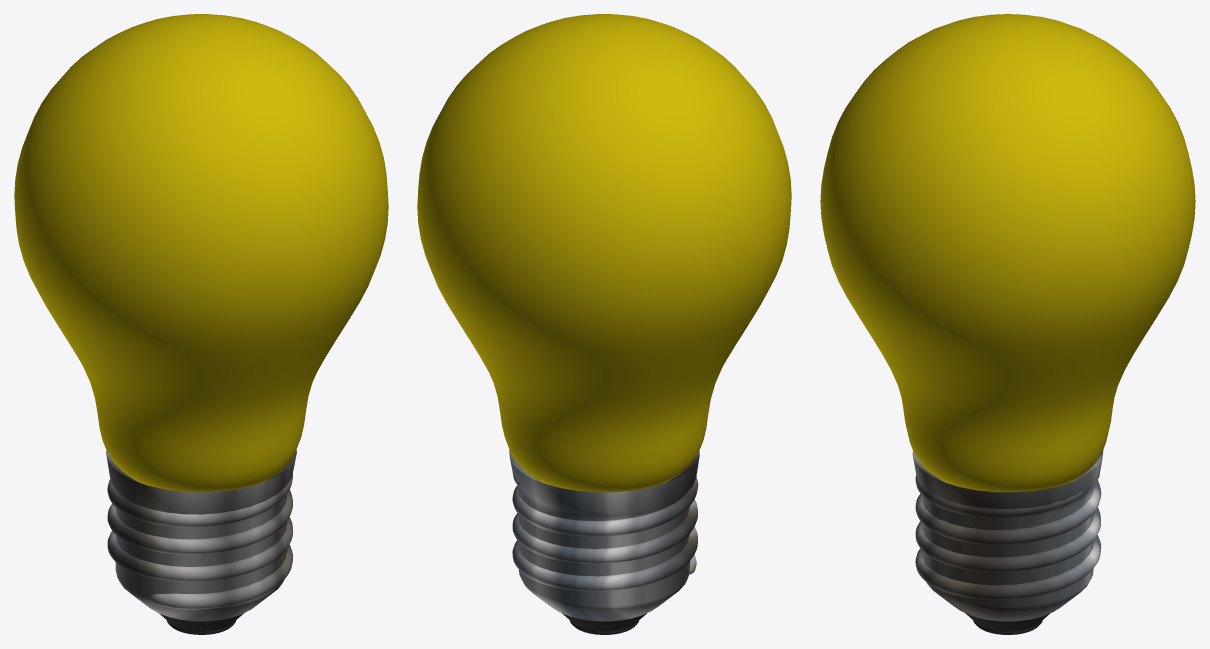
Rendered from Bulb_Verified.glb.
3 views of the same model, side by side, from view 1: azimuth 30°, elevation 25°; view 2: azimuth 150°, elevation 25°; view 3: azimuth 270°, elevation 25° (orthographic).
Visible parts, largest first — view 1: Bulb_Main, Bottum; view 2: Bulb_Main, Bottum; view 3: Bulb_Main, Bottum.
Part boxes in pixels (bbox=[...]): Bulb_Main: bbox=[14, 14, 388, 492]; Bottum: bbox=[106, 450, 296, 634]; Bulb_Main: bbox=[417, 14, 791, 492]; Bottum: bbox=[509, 449, 699, 634]; Bulb_Main: bbox=[820, 14, 1195, 492]; Bottum: bbox=[912, 450, 1103, 634].
Bounding box in the file's own units: 27.57 × 48.27 × 27.57.
3 materials, 2 textured.
